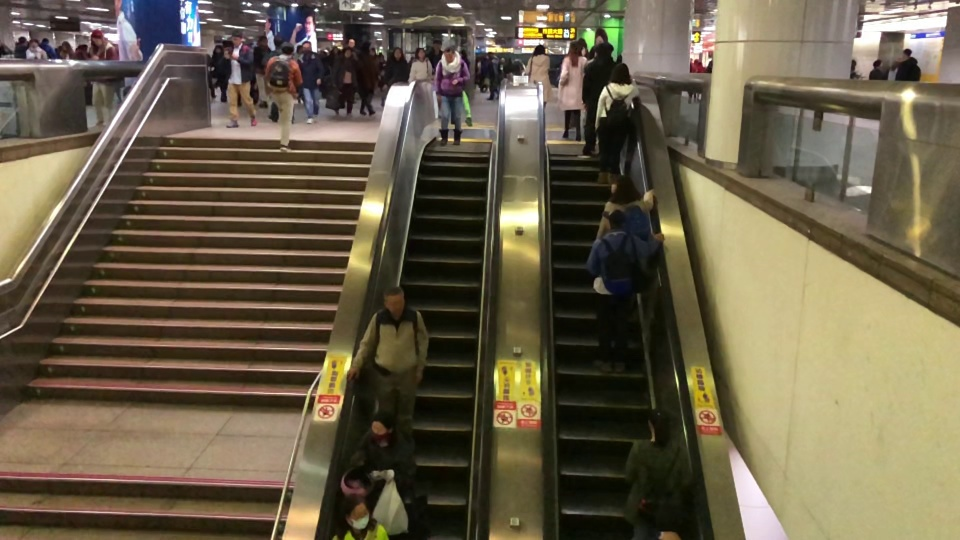person_head: (340, 493, 370, 532), (382, 283, 407, 318), (370, 410, 395, 442), (609, 174, 637, 200), (647, 409, 670, 439), (602, 209, 627, 234), (611, 61, 630, 83), (89, 28, 104, 47), (443, 44, 458, 63), (566, 39, 582, 56), (594, 42, 610, 58), (230, 30, 243, 47), (280, 40, 294, 54), (301, 39, 313, 53), (533, 44, 546, 56), (273, 35, 284, 49), (415, 47, 427, 59), (27, 39, 40, 50), (431, 39, 442, 52), (393, 47, 403, 61), (902, 47, 913, 59), (342, 46, 352, 58), (873, 58, 883, 69)
person_vbox: (584, 209, 666, 375), (344, 284, 428, 432), (623, 406, 692, 538), (349, 411, 417, 511), (577, 44, 623, 161), (596, 61, 638, 184), (593, 171, 655, 246), (264, 43, 302, 154), (434, 42, 470, 148), (219, 31, 258, 128), (86, 28, 120, 126), (557, 39, 588, 140), (328, 492, 389, 540), (296, 40, 326, 124), (267, 35, 295, 123), (329, 48, 358, 120), (523, 43, 552, 110), (383, 46, 410, 93), (427, 40, 443, 116), (893, 47, 922, 82), (408, 46, 433, 81), (24, 40, 48, 61), (869, 58, 889, 81)
